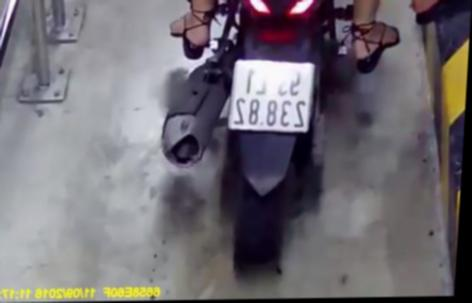License_Plate: (216, 52, 331, 139)
